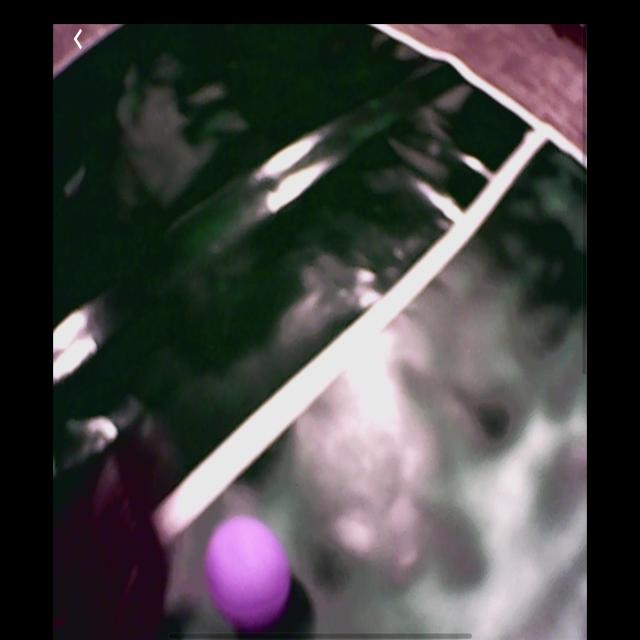ball: (204, 514, 293, 632)
